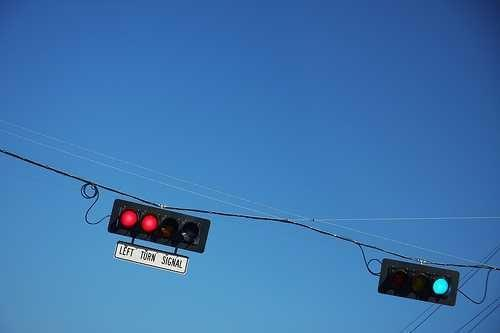2: (379, 257, 456, 307)
3: (406, 264, 436, 298), (382, 262, 409, 296), (178, 220, 204, 250), (160, 214, 185, 240)
5: (115, 200, 140, 236), (137, 209, 162, 239)
8: (110, 198, 207, 251)
red traffic light: (431, 268, 454, 302)
